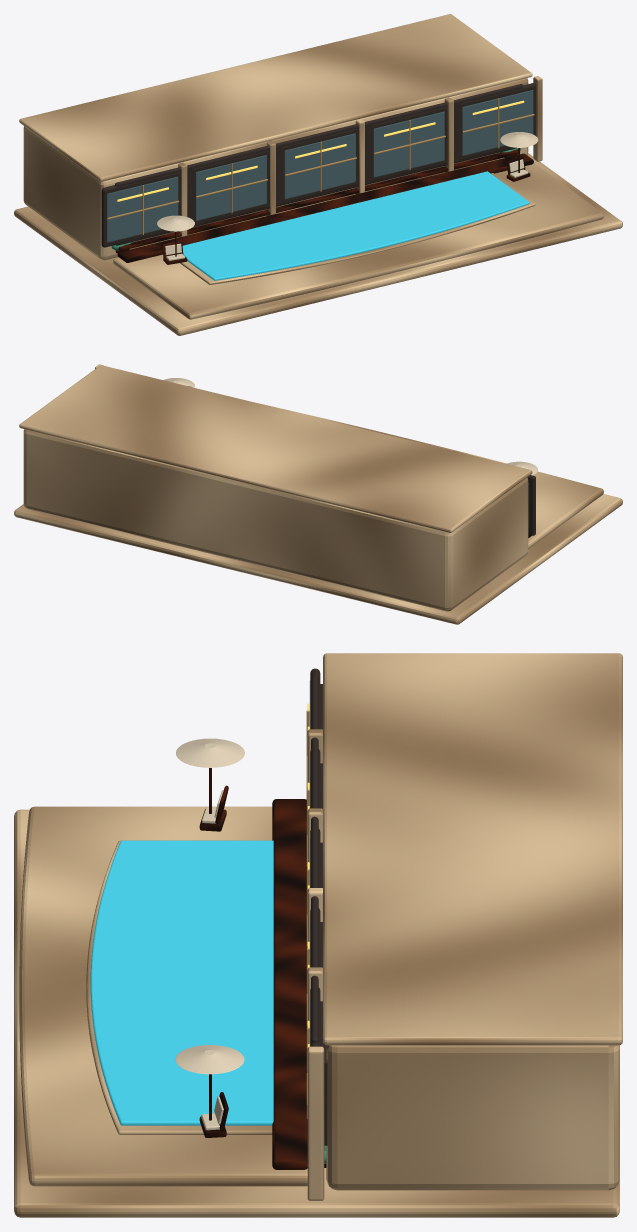
The model's file is hotel-level.glb.
3 views of the same model, one above another, from view 1: azimuth 30°, elevation 25°; view 2: azimuth 150°, elevation 25°; view 3: azimuth 270°, elevation 25° (orthographic). The views are drawn at different scales.
Visible parts, largest first — view 1: ASSET_HOTEL_LEVEL_PaleTravertine, ASSET_HOTEL_LEVEL_DeepInterior, LevelPoolPoolWater, ASSET_HOTEL_LEVEL_ArchitecturalGlass, ASSET_HOTEL_LEVEL_DarkTeak, ASSET_HOTEL_LEVEL_ResortLoungeFabric, ASSET_HOTEL_LEVEL_AgedChampagneBrass, ASSET_HOTEL_LEVEL_WarmEmissive; view 2: ASSET_HOTEL_LEVEL_PaleTravertine, ASSET_HOTEL_LEVEL_DeepInterior, ASSET_HOTEL_LEVEL_ResortLoungeFabric; view 3: ASSET_HOTEL_LEVEL_PaleTravertine, LevelPoolPoolWater, ASSET_HOTEL_LEVEL_DarkTeak, ASSET_HOTEL_LEVEL_DeepInterior, ASSET_HOTEL_LEVEL_ResortLoungeFabric, ASSET_HOTEL_LEVEL_AgedChampagneBrass.
Boxes of the visible parts, bbox=[...] form: ASSET_HOTEL_LEVEL_PaleTravertine: bbox=[14, 14, 622, 335]; ASSET_HOTEL_LEVEL_DeepInterior: bbox=[101, 83, 535, 247]; LevelPoolPoolWater: bbox=[182, 171, 529, 280]; ASSET_HOTEL_LEVEL_ArchitecturalGlass: bbox=[107, 90, 532, 242]; ASSET_HOTEL_LEVEL_DarkTeak: bbox=[115, 148, 533, 264]; ASSET_HOTEL_LEVEL_ResortLoungeFabric: bbox=[157, 132, 538, 260]; ASSET_HOTEL_LEVEL_AgedChampagneBrass: bbox=[107, 98, 534, 234]; ASSET_HOTEL_LEVEL_WarmEmissive: bbox=[117, 100, 524, 201]; ASSET_HOTEL_LEVEL_PaleTravertine: bbox=[14, 364, 622, 624]; ASSET_HOTEL_LEVEL_DeepInterior: bbox=[527, 475, 535, 535]; ASSET_HOTEL_LEVEL_ResortLoungeFabric: bbox=[163, 378, 537, 475]; ASSET_HOTEL_LEVEL_PaleTravertine: bbox=[14, 653, 622, 1217]; LevelPoolPoolWater: bbox=[90, 840, 273, 1125]; ASSET_HOTEL_LEVEL_DarkTeak: bbox=[199, 768, 326, 1169]; ASSET_HOTEL_LEVEL_DeepInterior: bbox=[310, 668, 327, 1145]; ASSET_HOTEL_LEVEL_ResortLoungeFabric: bbox=[175, 738, 244, 1130]; ASSET_HOTEL_LEVEL_AgedChampagneBrass: bbox=[306, 710, 309, 1119].
Bounding box in the file's own units: 16.95 × 3.48 × 10.95.
Materials: 10 (2 with a texture image).
